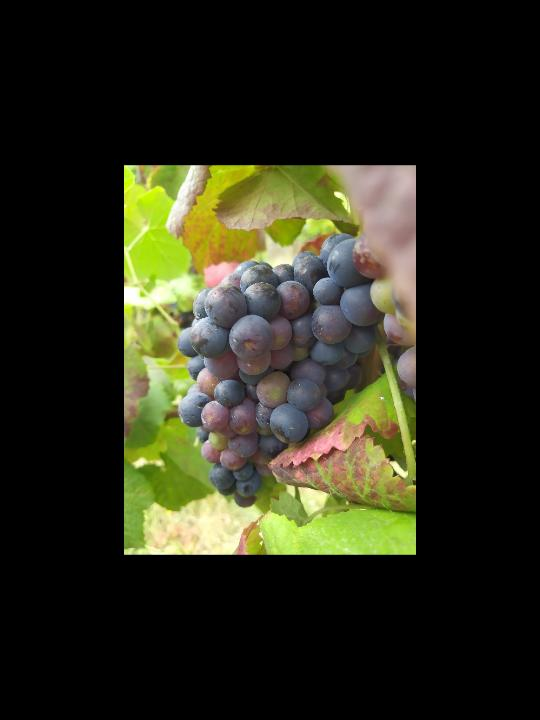grape: (173, 235, 385, 508)
